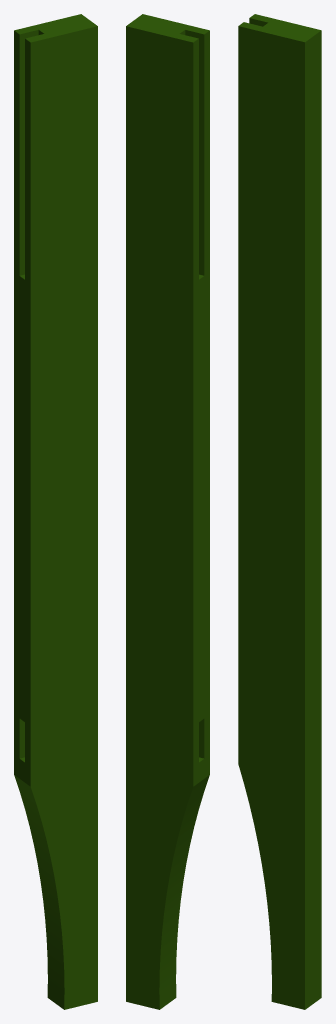
File: original-29.obj
3 renders of one model, left to right at view 1: azimuth 30°, elevation 25°; view 2: azimuth 150°, elevation 25°; view 3: azimuth 330°, elevation 25°, orthographic.
Parts seen in each view (by area): view 1: inside_leg_1_1/inside_leg_1/mesh61/mesh61-geometry#mesh61-geomet; view 2: inside_leg_1_1/inside_leg_1/mesh61/mesh61-geometry#mesh61-geomet; view 3: inside_leg_1_1/inside_leg_1/mesh61/mesh61-geometry#mesh61-geomet.
Boxes of the visible parts, <box> form: inside_leg_1_1/inside_leg_1/mesh61/mesh61-geometry#mesh61-geomet: <box>14,14,97,1009</box>; inside_leg_1_1/inside_leg_1/mesh61/mesh61-geometry#mesh61-geomet: <box>126,14,209,1009</box>; inside_leg_1_1/inside_leg_1/mesh61/mesh61-geometry#mesh61-geomet: <box>238,14,321,1009</box>.
Size of the model in its own units: 0.0918 by 1.27 by 0.0394.
